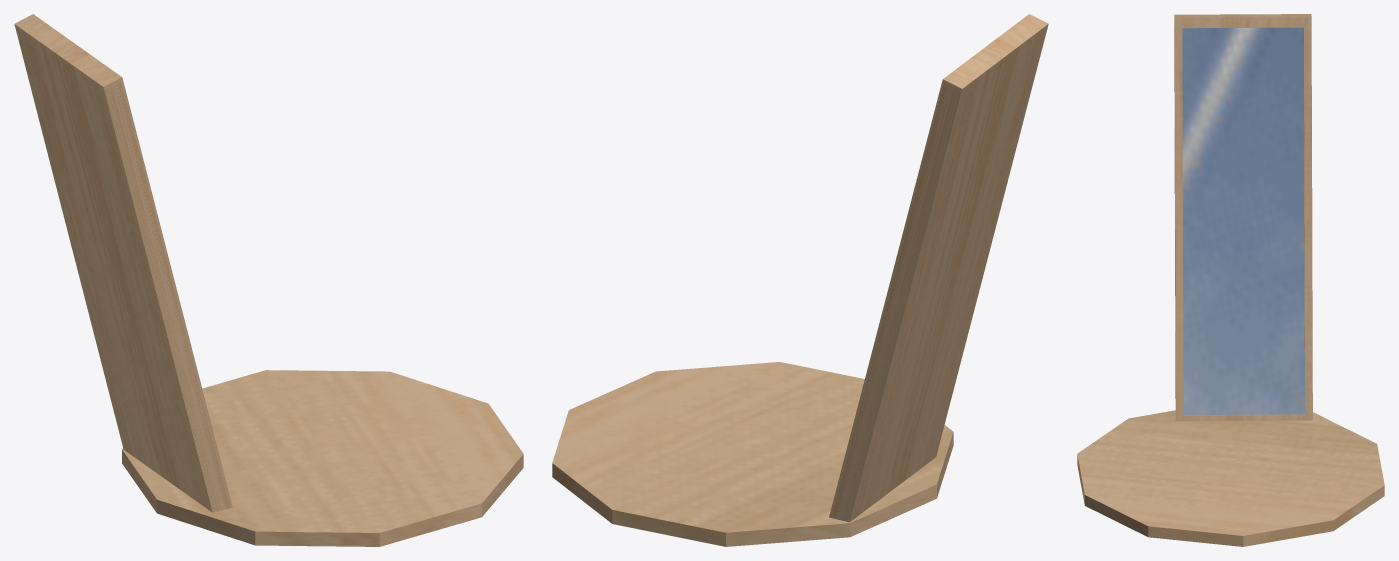
The model's file is Bedroom_Miror.fbx.
3 views of the same model, side by side, from view 1: azimuth 30°, elevation 25°; view 2: azimuth 150°, elevation 25°; view 3: azimuth 270°, elevation 25° (orthographic). The views are drawn at different scales.
Parts seen in each view (by area): view 1: Cylinder.001; view 2: Cylinder.001; view 3: Cylinder.001.
Part boxes in pixels (box(x1,y1,x2,y2)): Cylinder.001: box(14, 14, 523, 546); Cylinder.001: box(552, 14, 1048, 546); Cylinder.001: box(1077, 14, 1384, 546).
Bounding box in the file's own units: 172 × 181 × 135.
